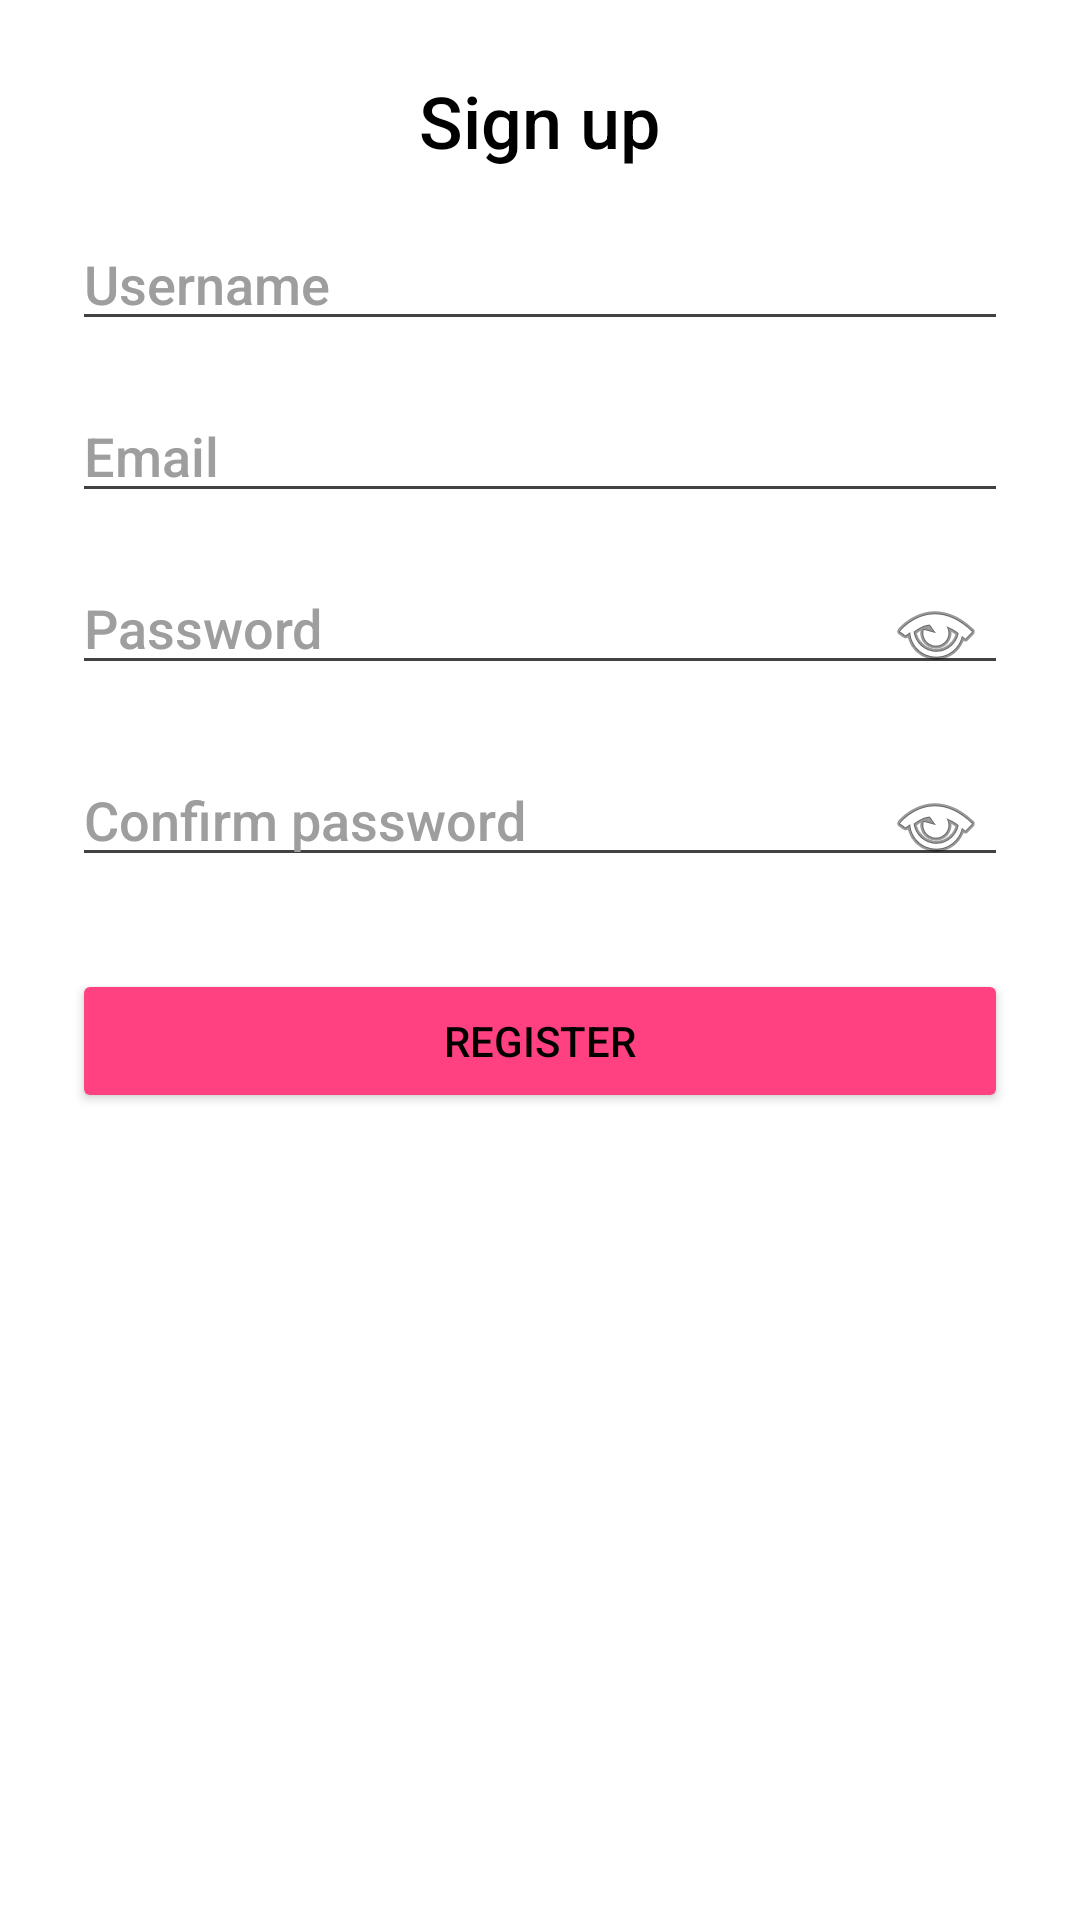

Where to tap for icons on this 1080w x 1920h app screen, as [x,y]:
Show: [930,636], [930,828]
